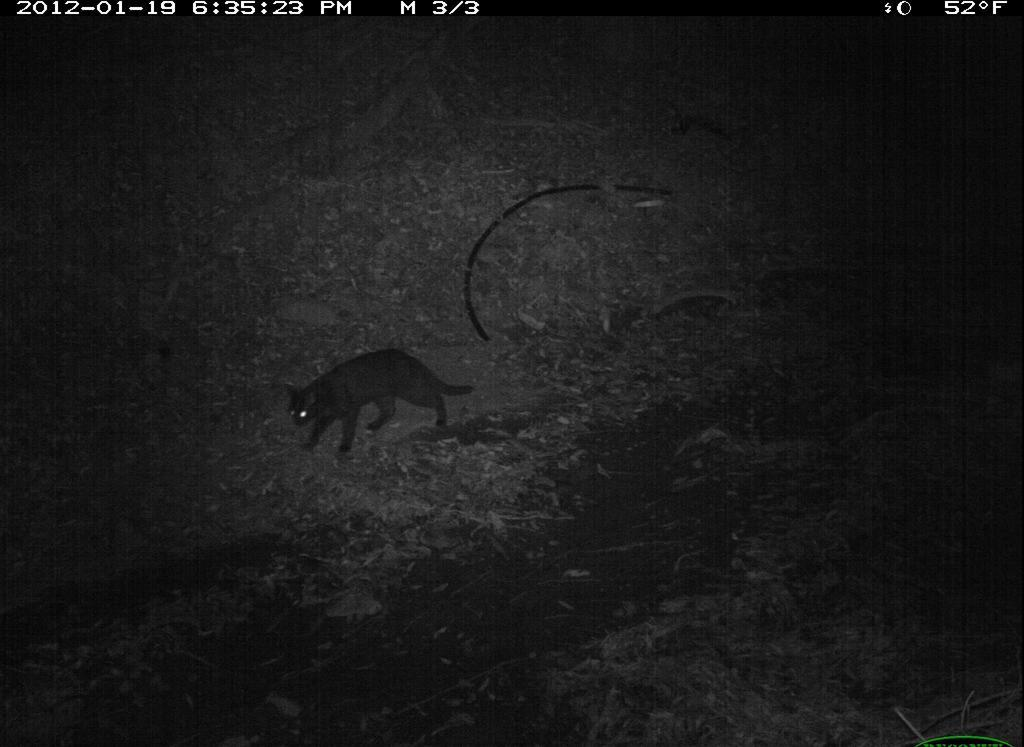cat: (273, 337, 486, 465)
